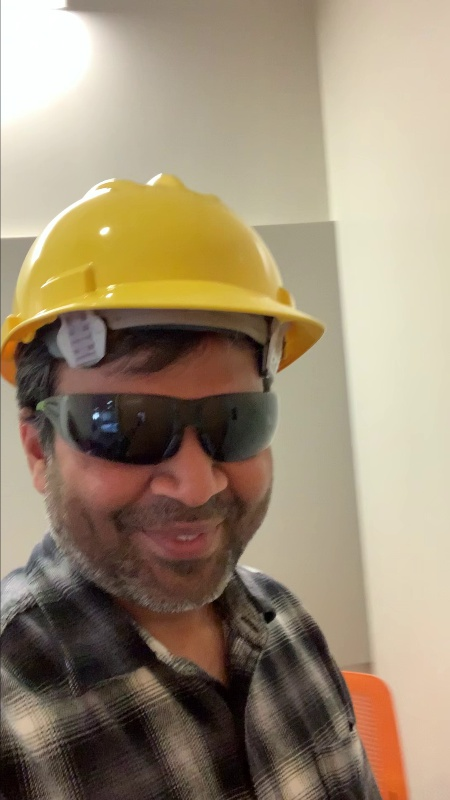glasses: (59, 384, 288, 470)
helmet: (5, 165, 325, 372)
